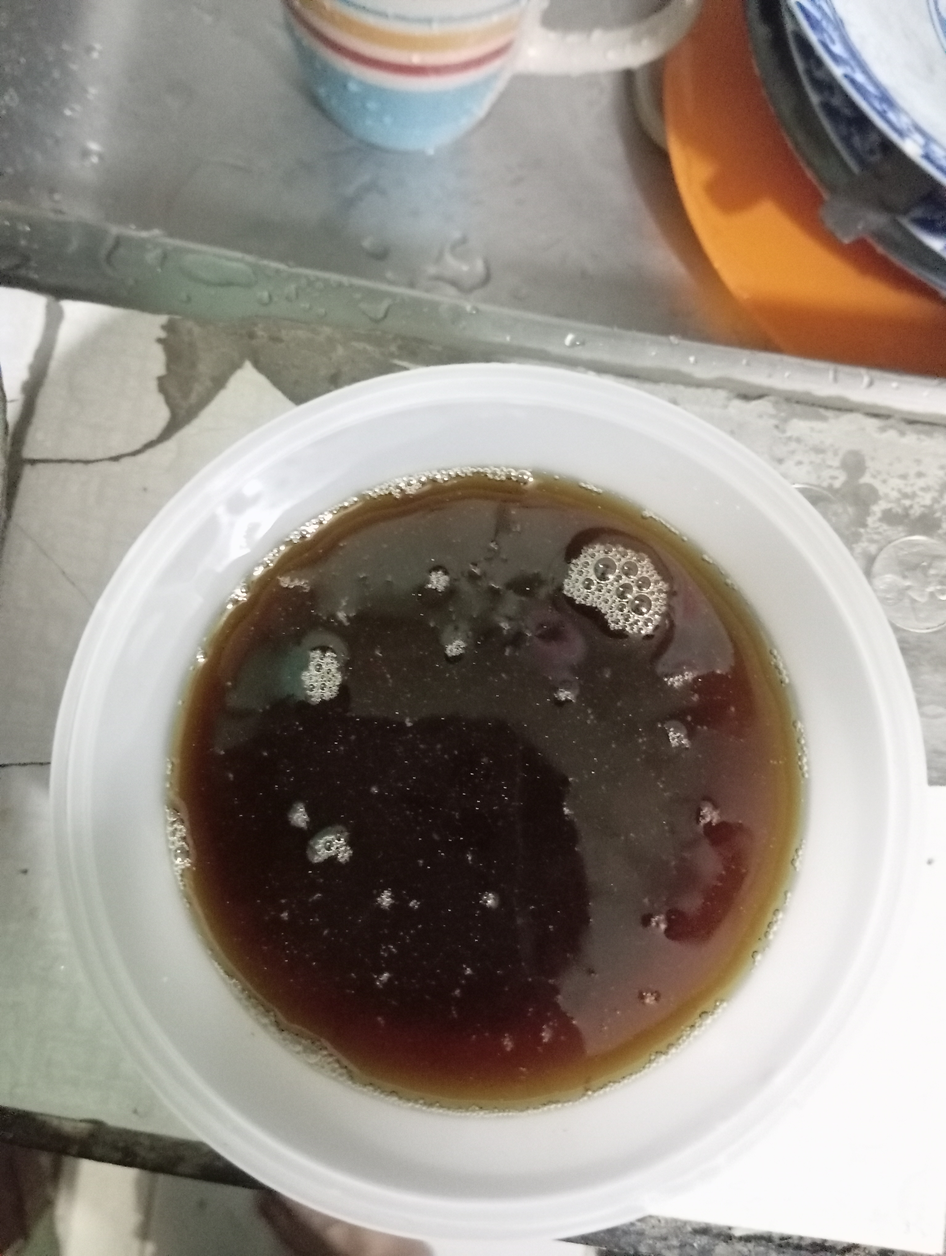non-reusable: (182, 474, 798, 1108)
